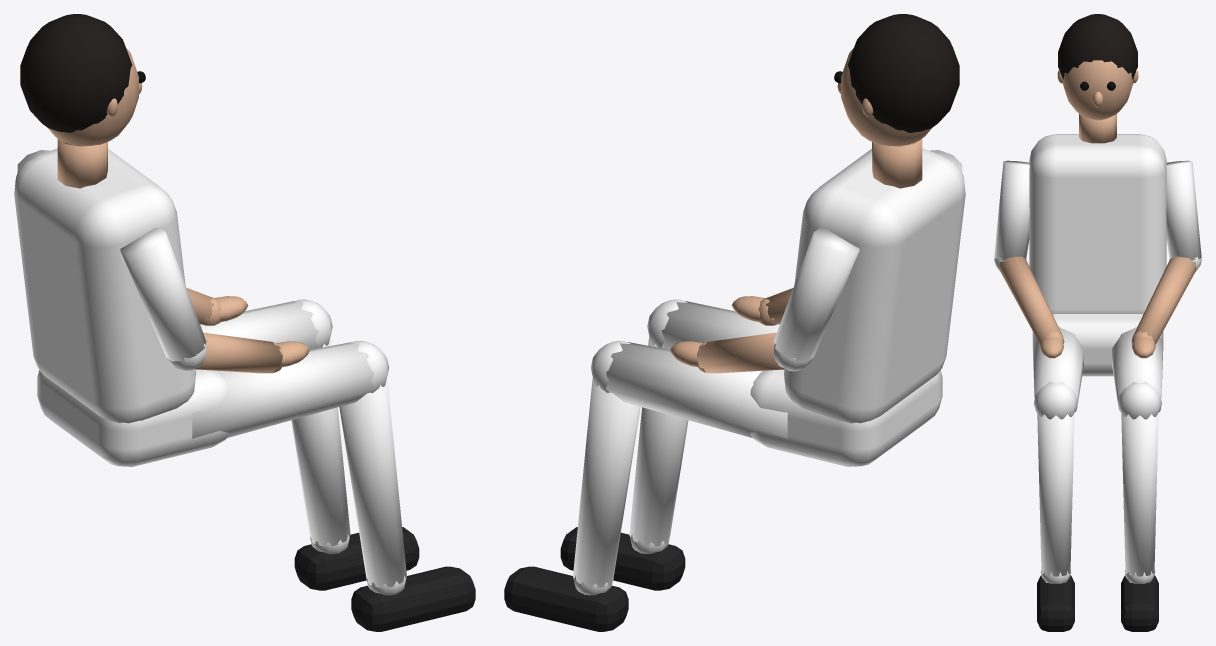
File: passenger_sit.glb
3 views of the same model, side by side, from view 1: azimuth 30°, elevation 25°; view 2: azimuth 150°, elevation 25°; view 3: azimuth 270°, elevation 25° (orthographic). The views are drawn at different scales.
Parts seen in each view (by area): view 1: PassengerSit; view 2: PassengerSit; view 3: PassengerSit.
Boxes of the visible parts, <box> form: PassengerSit: <box>14,14,475,631</box>; PassengerSit: <box>504,14,965,631</box>; PassengerSit: <box>994,14,1201,631</box>.
Size of the model in its own units: 0.9286 by 1.41 by 0.544.
